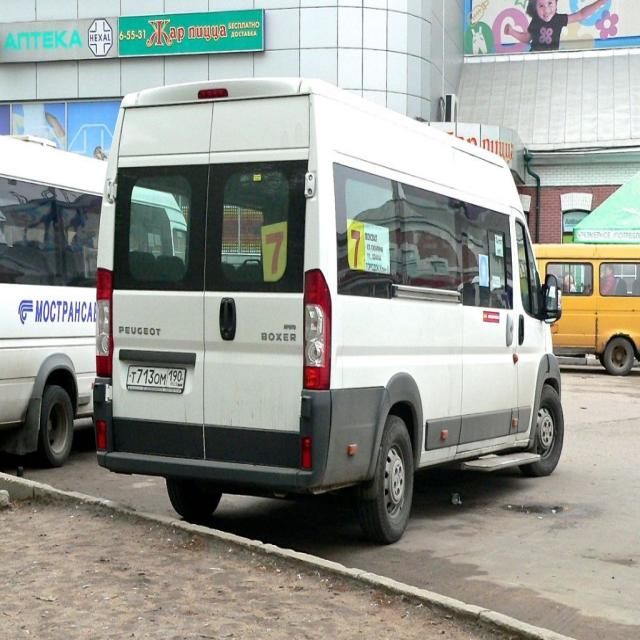number-of-bus: (265, 231, 290, 280)
